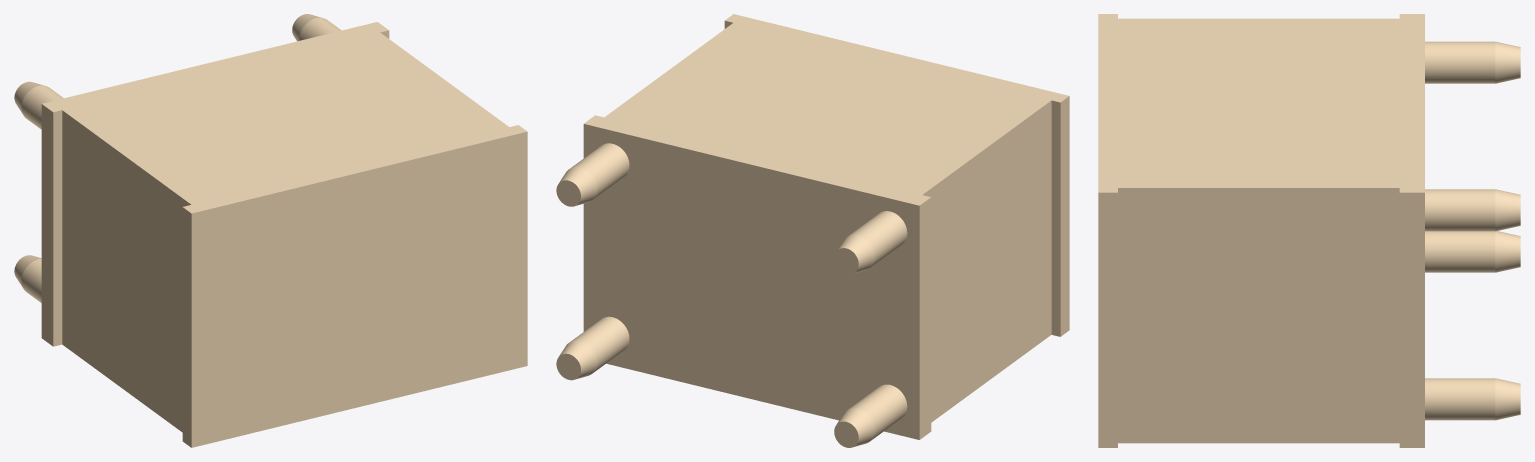
The model's file is nightStand.gltf.
3 views of the same model, side by side, from view 1: azimuth 30°, elevation 25°; view 2: azimuth 150°, elevation 25°; view 3: azimuth 270°, elevation 25° (orthographic). The views are drawn at different scales.
Parts seen in each view (by area): view 1: Night Stand; view 2: Night Stand; view 3: Night Stand.
Boxes of the visible parts, x1,y1,x2,y2 form: Night Stand: (14, 14, 527, 447); Night Stand: (556, 14, 1069, 447); Night Stand: (1098, 14, 1520, 447).
Size of the model in its own units: 0.0381 by 0.0284 by 0.0381.
